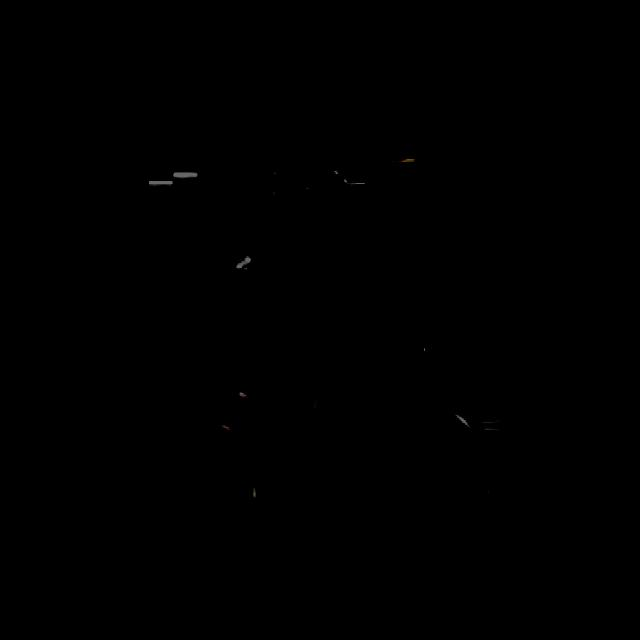Motorbike: (146, 226, 500, 562)
